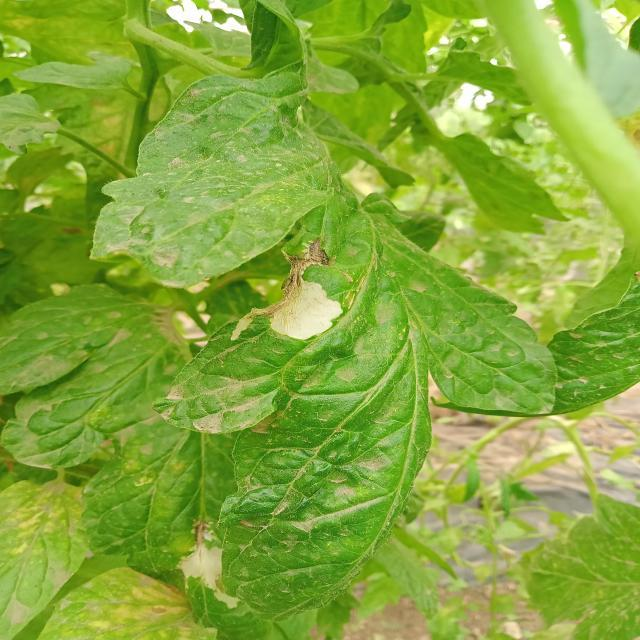Tuta absoluta: (163, 518, 252, 621), (266, 274, 347, 357)
